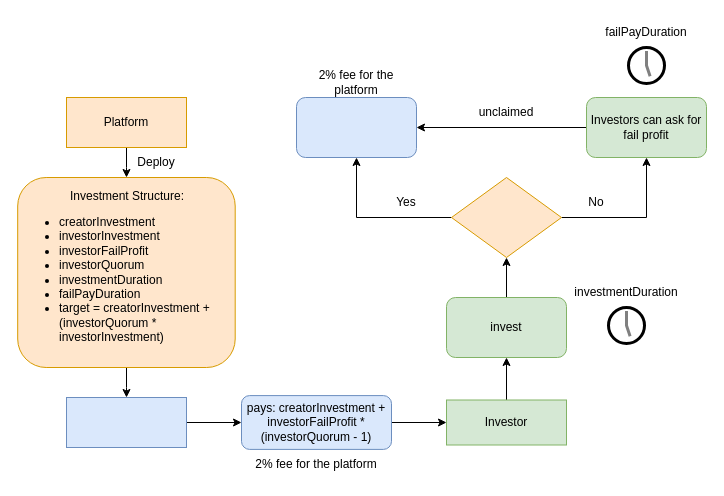
Image size: 724x496. Some labels were removed from this diagram. Here are the shapes that lost their labels. From the top down, the box of each, then its label:
(296, 96, 416, 158): Creator takes the funds
(450, 176, 562, 258): target reached
(66, 396, 186, 448): Creator
